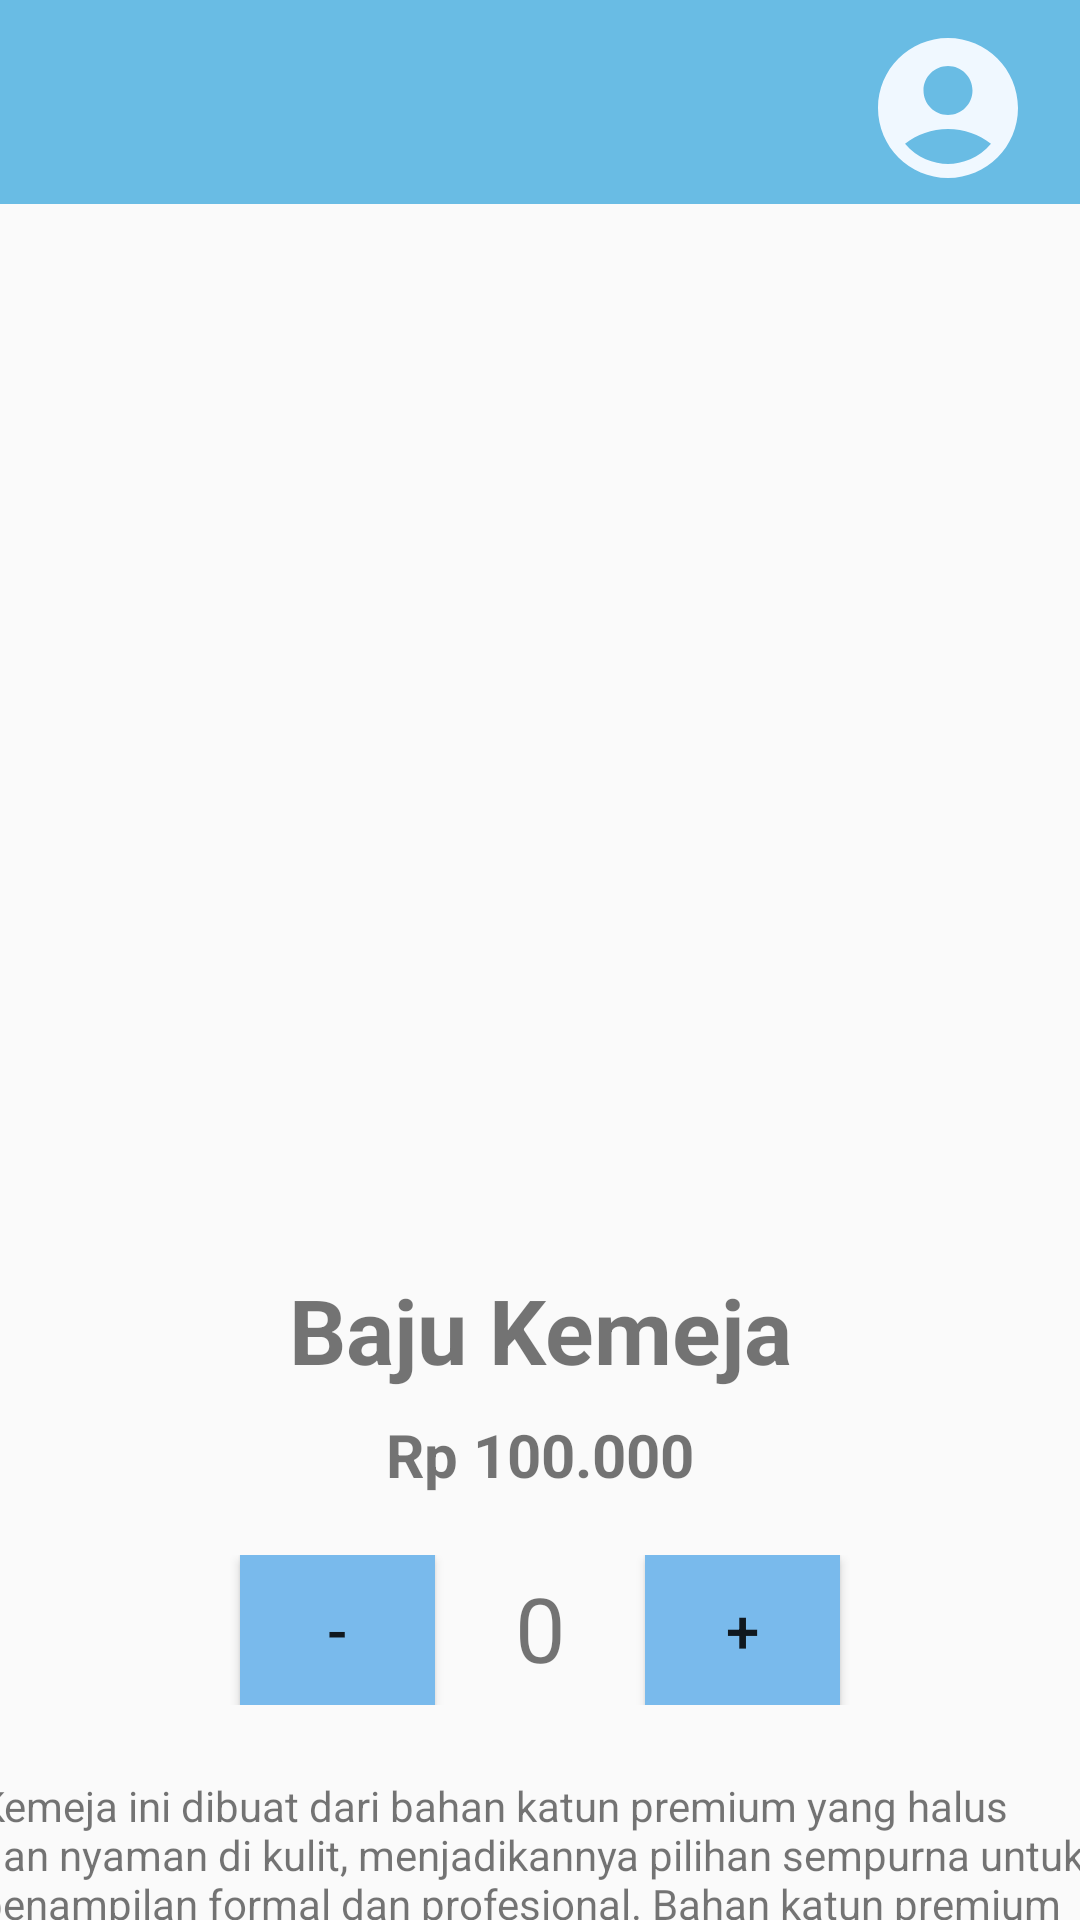

Named icons in this screenshot (1080px x 1920px) and their centers, [x,y]:
account circle: [948,108]
